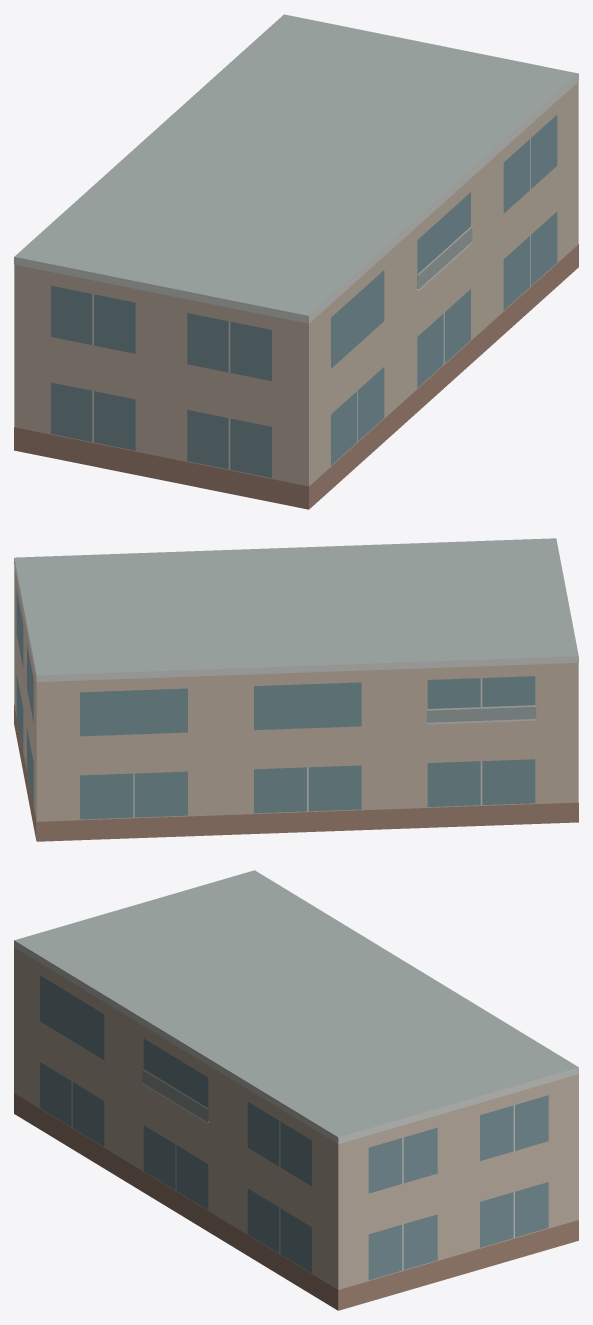
The model's file is survey-upis-32803799.glb.
3 renders of one model, top to bottom at view 1: azimuth 30°, elevation 25°; view 2: azimuth 150°, elevation 25°; view 3: azimuth 270°, elevation 25°, orthographic. The views are drawn at different scales.
Visible parts, largest first — view 1: survey-upis-32803799.tmp; view 2: survey-upis-32803799.tmp; view 3: survey-upis-32803799.tmp.
Part boxes in pixels (x1,y1,x2,y2): survey-upis-32803799.tmp: [14, 14, 578, 509]; survey-upis-32803799.tmp: [14, 538, 578, 841]; survey-upis-32803799.tmp: [14, 870, 578, 1310].
Bounding box in the file's own units: 20.16 × 6.1 × 18.01.
